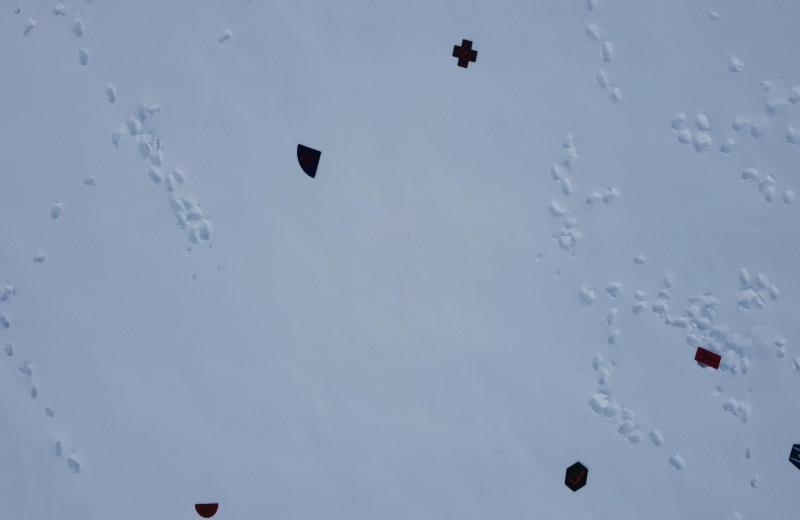Cross: (450, 36, 477, 72)
Hexagon: (562, 456, 594, 492)
Quarter Circle: (297, 136, 329, 184)
Rectangle: (1, 0, 800, 520), (693, 342, 721, 375)
Semi Circle: (194, 491, 222, 520)
